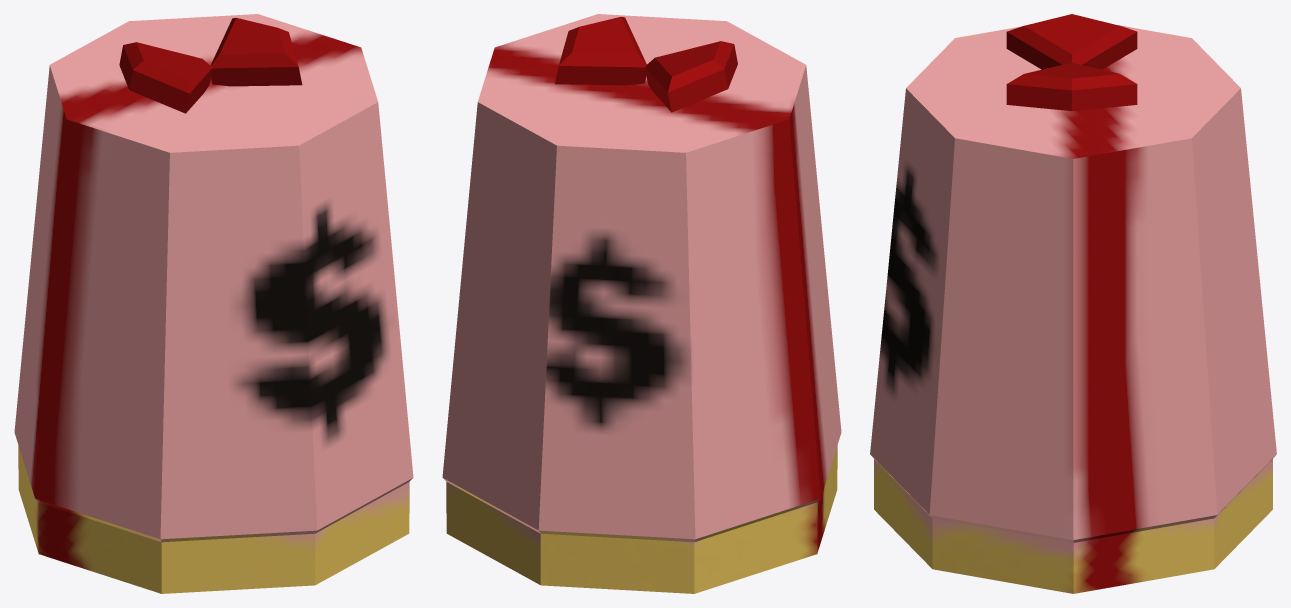
Rendered from pandoro.fbx.
The picture shows the model from 3 angles, left to right: view 1: azimuth 30°, elevation 25°; view 2: azimuth 150°, elevation 25°; view 3: azimuth 270°, elevation 25°; orthographic projection.
Parts seen in each view (by area): view 1: Circle.002; view 2: Circle.002; view 3: Circle.002.
Boxes of the visible parts, x1,y1,x2,y2 form: Circle.002: (14,14,413,593); Circle.002: (442,14,841,593); Circle.002: (870,14,1276,593).
Size of the model in its own units: 18.5 by 23.16 by 18.5.
